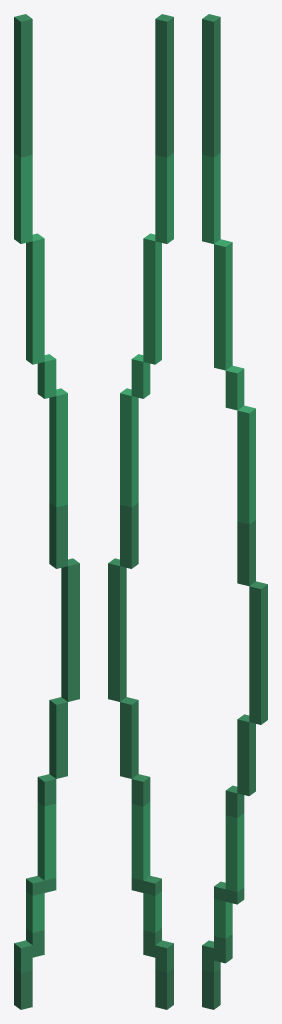
Rendered from vine4.fbx.
The picture shows the model from 3 angles, left to right: view 1: azimuth 30°, elevation 25°; view 2: azimuth 150°, elevation 25°; view 3: azimuth 330°, elevation 25°; orthographic projection.
Parts seen in each view (by area): view 1: vine4; view 2: vine4; view 3: vine4.
Boxes of the visible parts, x1,y1,x2,y2 form: vine4: (14,14,79,1009); vine4: (108,14,173,1009); vine4: (202,14,267,1009).
Bounding box in the file's own units: 5 × 80 × 1.
Materials: 1 (1 with a texture image).
